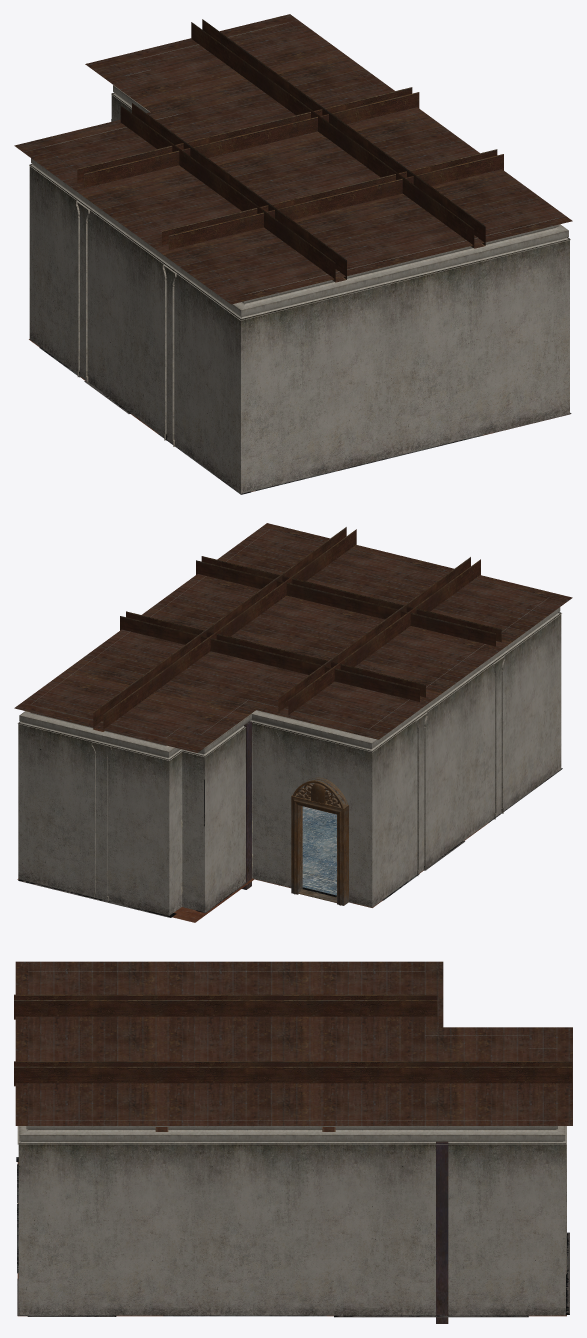
The picture shows the model from 3 angles, top to bottom: view 1: azimuth 30°, elevation 25°; view 2: azimuth 150°, elevation 25°; view 3: azimuth 270°, elevation 25°; orthographic projection. The views are drawn at different scales.
Visible parts, largest first — view 1: LOD_1_Group_0_Sub_4__st2_police2fRightWall01, LOD_1_Group_0_Sub_10__st2_police2fRightCeiling04, LOD_1_Group_0_Sub_11__st2_police2fRightFrame02, LOD_1_Group_0_Sub_12__st2_police2fRightFrame03, LOD_1_Group_0_Sub_14__st2_police1fLeftDirt02; view 2: LOD_1_Group_0_Sub_4__st2_police2fRightWall01, LOD_1_Group_0_Sub_10__st2_police2fRightCeiling04, LOD_1_Group_0_Sub_11__st2_police2fRightFrame02, LOD_1_Group_0_Sub_12__st2_police2fRightFrame03, LOD_1_Group_0_Sub_13__st2_police2fRightDoor03, LOD_1_Group_0_Sub_3__st2_police2fRightFloor04, LOD_1_Group_0_Sub_7__st2_police2fRightLift01, LOD_1_Group_0_Sub_14__st2_police1fLeftDirt02, LOD_1_Group_0_Sub_1__st2_police2fRightFloor01, LOD_1_Group_0_Sub_2__st2_police2fRightFloor03; view 3: LOD_1_Group_0_Sub_4__st2_police2fRightWall01, LOD_1_Group_0_Sub_10__st2_police2fRightCeiling04, LOD_1_Group_0_Sub_11__st2_police2fRightFrame02, LOD_1_Group_0_Sub_12__st2_police2fRightFrame03, LOD_1_Group_0_Sub_7__st2_police2fRightLift01, LOD_1_Group_0_Sub_14__st2_police1fLeftDirt02.
Part boxes in pixels (x1,y1,x2,y2): LOD_1_Group_0_Sub_4__st2_police2fRightWall01: (29, 92, 569, 493); LOD_1_Group_0_Sub_10__st2_police2fRightCeiling04: (14, 14, 572, 304); LOD_1_Group_0_Sub_11__st2_police2fRightFrame02: (77, 19, 503, 282); LOD_1_Group_0_Sub_12__st2_police2fRightFrame03: (29, 22, 570, 446); LOD_1_Group_0_Sub_14__st2_police1fLeftDirt02: (39, 119, 571, 494); LOD_1_Group_0_Sub_4__st2_police2fRightWall01: (18, 612, 561, 915); LOD_1_Group_0_Sub_10__st2_police2fRightCeiling04: (14, 523, 572, 752); LOD_1_Group_0_Sub_11__st2_police2fRightFrame02: (93, 527, 501, 731); LOD_1_Group_0_Sub_12__st2_police2fRightFrame03: (17, 529, 561, 901); LOD_1_Group_0_Sub_13__st2_police2fRightDoor03: (291, 777, 348, 905); LOD_1_Group_0_Sub_3__st2_police2fRightFloor04: (302, 806, 336, 879); LOD_1_Group_0_Sub_7__st2_police2fRightLift01: (242, 721, 251, 889); LOD_1_Group_0_Sub_14__st2_police1fLeftDirt02: (18, 768, 562, 917); LOD_1_Group_0_Sub_1__st2_police2fRightFloor01: (17, 823, 488, 922); LOD_1_Group_0_Sub_2__st2_police2fRightFloor03: (302, 871, 336, 895); LOD_1_Group_0_Sub_4__st2_police2fRightWall01: (18, 1143, 565, 1315); LOD_1_Group_0_Sub_10__st2_police2fRightCeiling04: (15, 961, 572, 1125); LOD_1_Group_0_Sub_11__st2_police2fRightFrame02: (14, 994, 571, 1131); LOD_1_Group_0_Sub_12__st2_police2fRightFrame03: (17, 971, 566, 1310); LOD_1_Group_0_Sub_7__st2_police2fRightLift01: (436, 1141, 448, 1323); LOD_1_Group_0_Sub_14__st2_police1fLeftDirt02: (16, 1157, 569, 1317).
Size of the model in its own units: 7.54 by 4.58 by 10.78.
